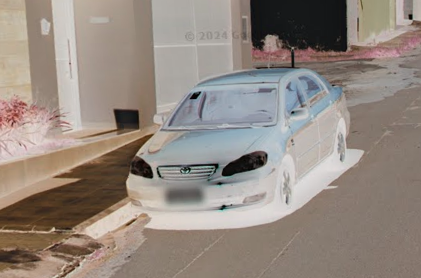car: (123, 52, 356, 226)
